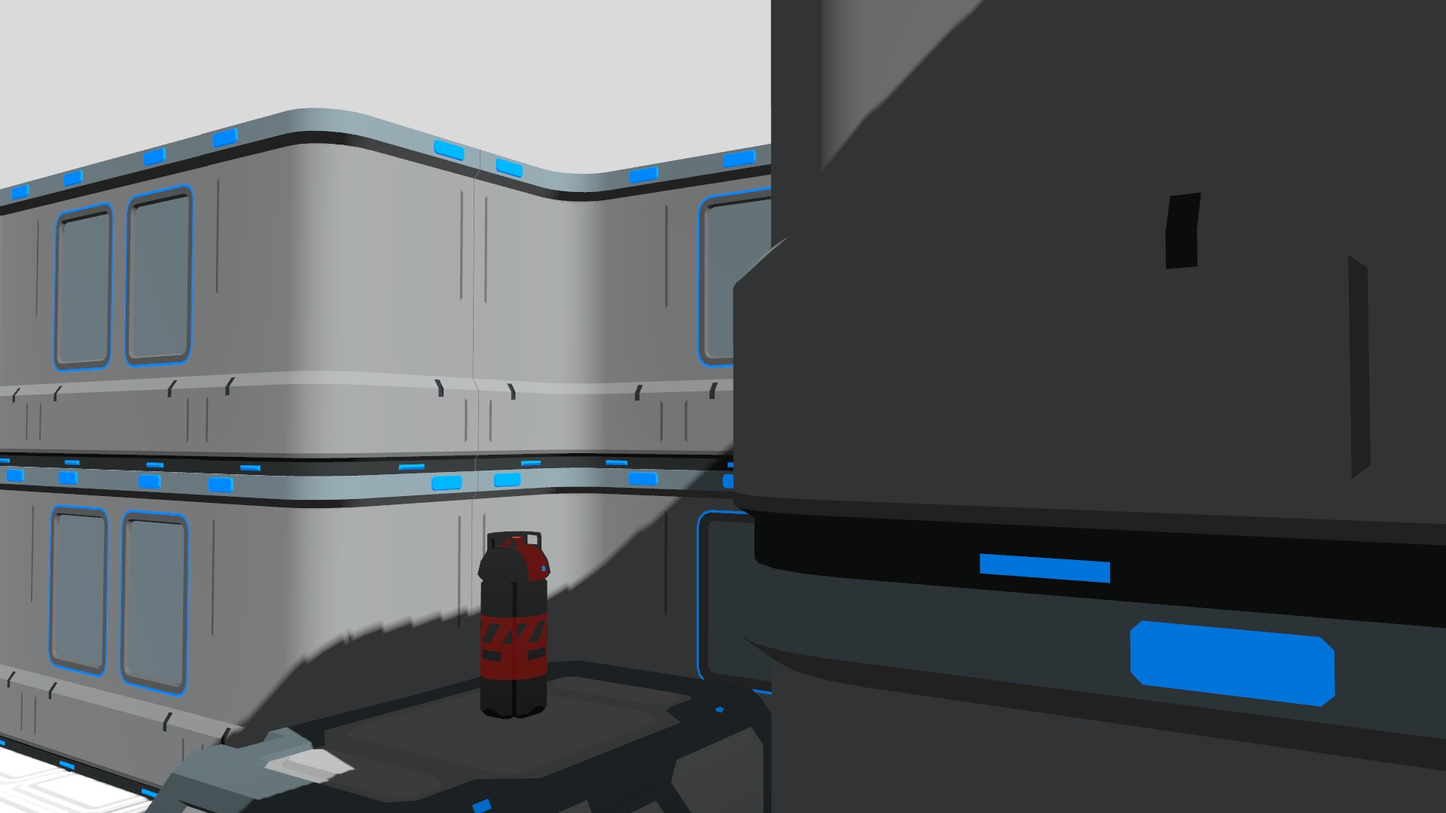red_barrel: (476, 530, 552, 723)
